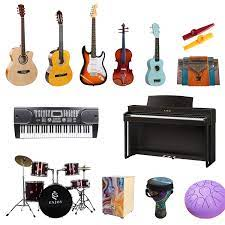Piano: (122, 89, 225, 174), (5, 101, 112, 149)
Violin: (111, 17, 145, 89)
